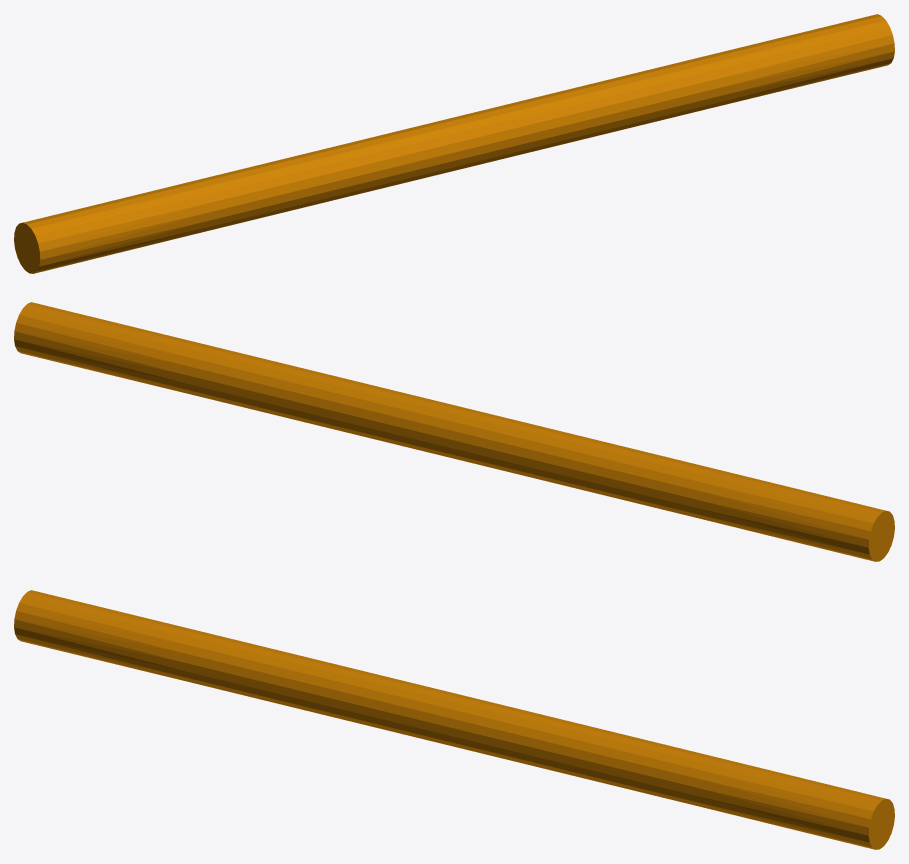
File: Bar3.obj
3 renders of one model, top to bottom at view 1: azimuth 30°, elevation 25°; view 2: azimuth 150°, elevation 25°; view 3: azimuth 330°, elevation 25°, orthographic.
Parts seen in each view (by area): view 1: Bar3; view 2: Bar3; view 3: Bar3.
Part boxes in pixels (x1,y1,x2,y2): Bar3: (14, 14, 894, 273); Bar3: (14, 302, 894, 561); Bar3: (14, 590, 894, 849).
Bounding box in the file's own units: 1.5 × 0.08 × 0.0797.
